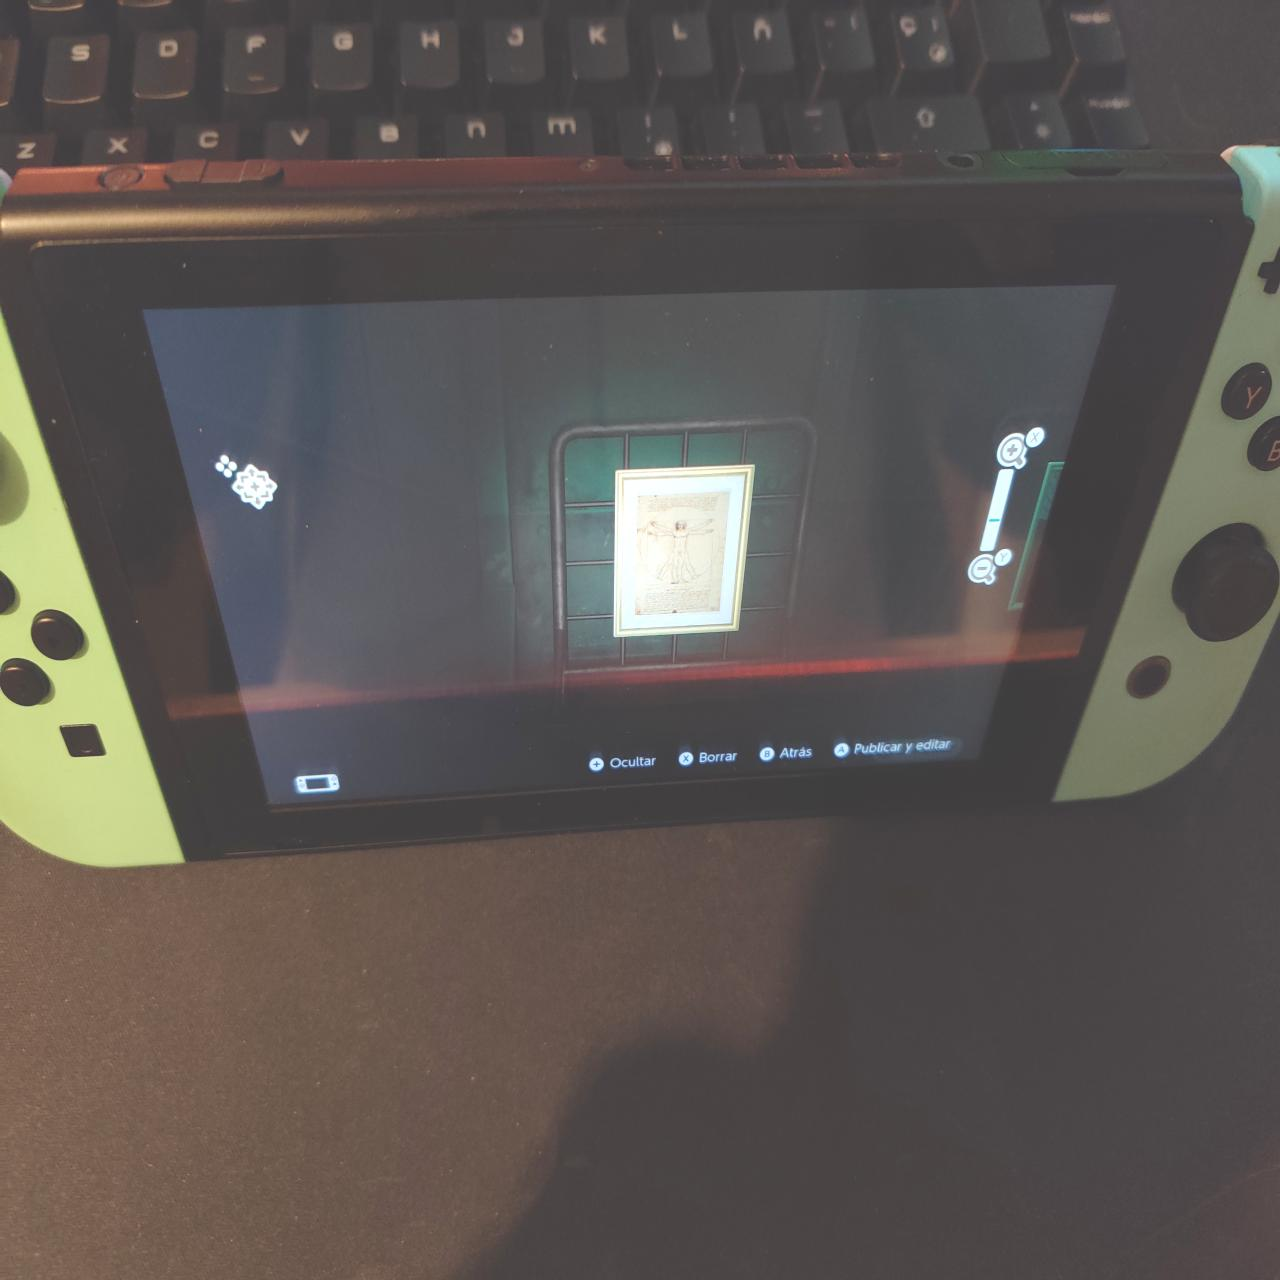VitruvianMan: (639, 496, 728, 620)
